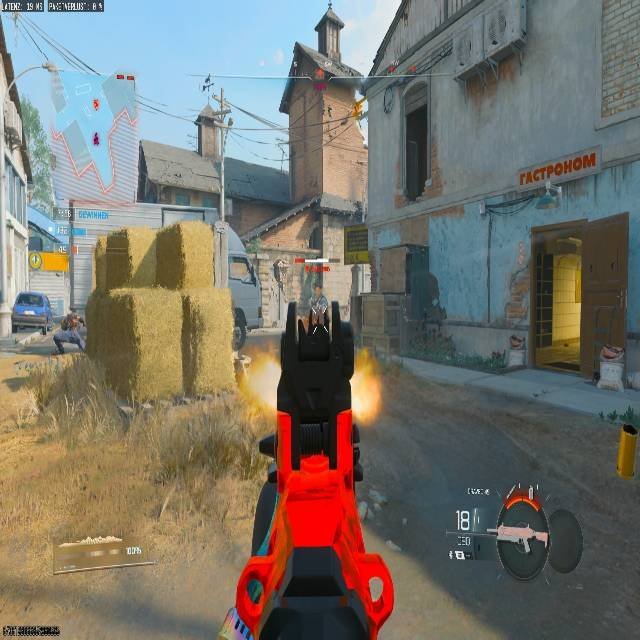player: (56, 311, 84, 355), (308, 283, 329, 334)
